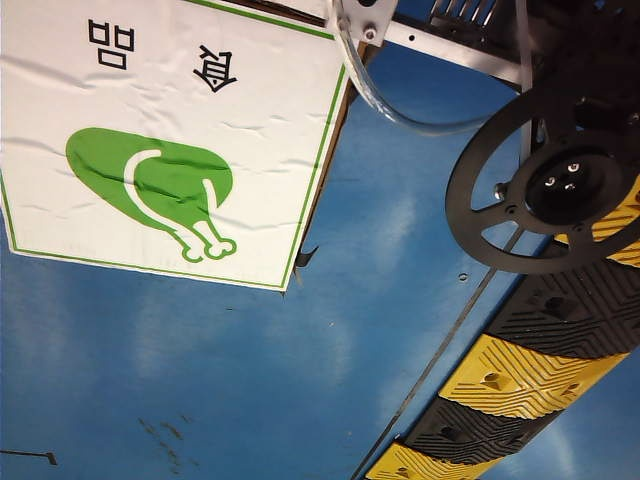Cube_food: (0, 0, 342, 266)
